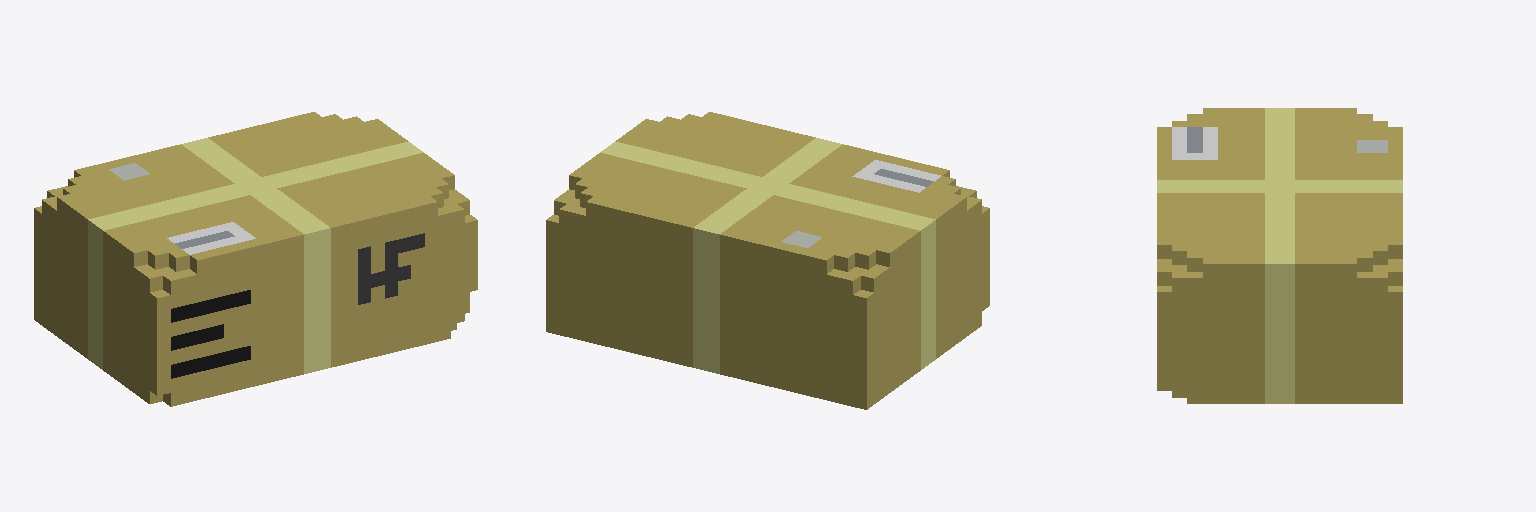
The picture shows the model from 3 angles: view 1: azimuth 30°, elevation 25°; view 2: azimuth 150°, elevation 25°; view 3: azimuth 270°, elevation 25°; orthographic projection.
Parts seen in each view (by area): view 1: parcel; view 2: parcel; view 3: parcel.
Boxes of the visible parts, x1=… form: parcel: x1=34, y1=112, x2=477, y2=406; parcel: x1=546, y1=112, x2=989, y2=409; parcel: x1=1157, y1=108, x2=1402, y2=403.
Bounding box in the file's own units: 24 × 10 × 16.
Materials: 1 (1 with a texture image).